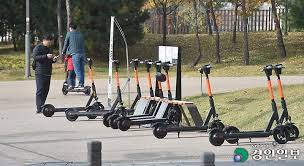kick_body: (228, 132, 272, 137), (168, 126, 207, 131), (55, 106, 87, 111), (132, 118, 166, 121)
kick_handler: (157, 62, 173, 71), (261, 65, 273, 77), (198, 65, 211, 75), (274, 63, 284, 75)
kick_neck: (276, 79, 293, 117), (205, 80, 217, 116), (265, 80, 276, 118), (88, 70, 97, 100), (114, 71, 121, 104), (133, 70, 141, 97), (166, 75, 172, 100)
kick_wheel: (273, 127, 288, 144), (209, 130, 224, 146), (151, 124, 166, 139), (225, 127, 238, 143), (287, 124, 299, 141), (117, 118, 130, 131), (65, 109, 77, 122), (43, 105, 54, 117), (87, 107, 97, 120)
